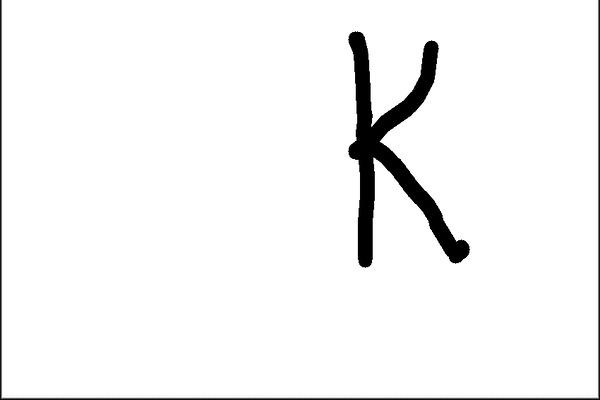K: (339, 24, 472, 276)
